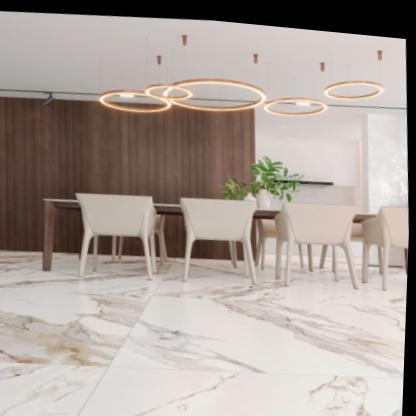Ceramic floor: (0, 251, 409, 416)
Wall Panel: (0, 64, 277, 272)
